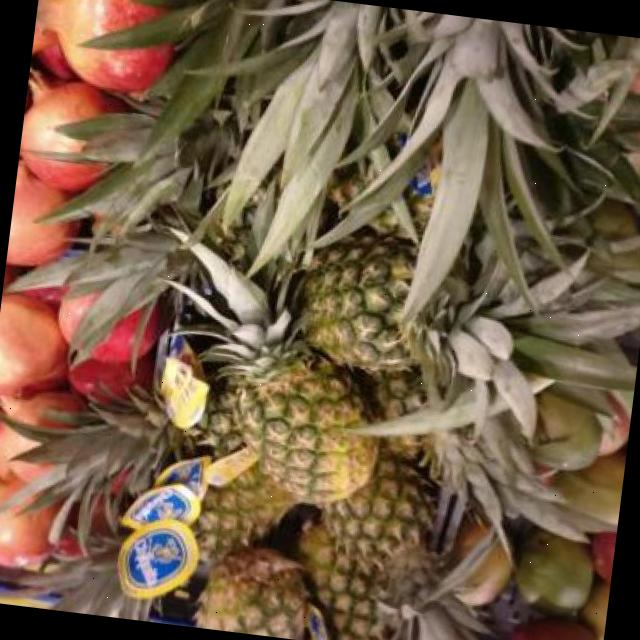pineapple: (375, 253, 640, 460), (175, 241, 375, 500), (322, 450, 486, 640), (303, 231, 414, 371), (196, 546, 326, 640), (192, 464, 293, 563), (299, 523, 376, 640), (45, 543, 144, 617)
